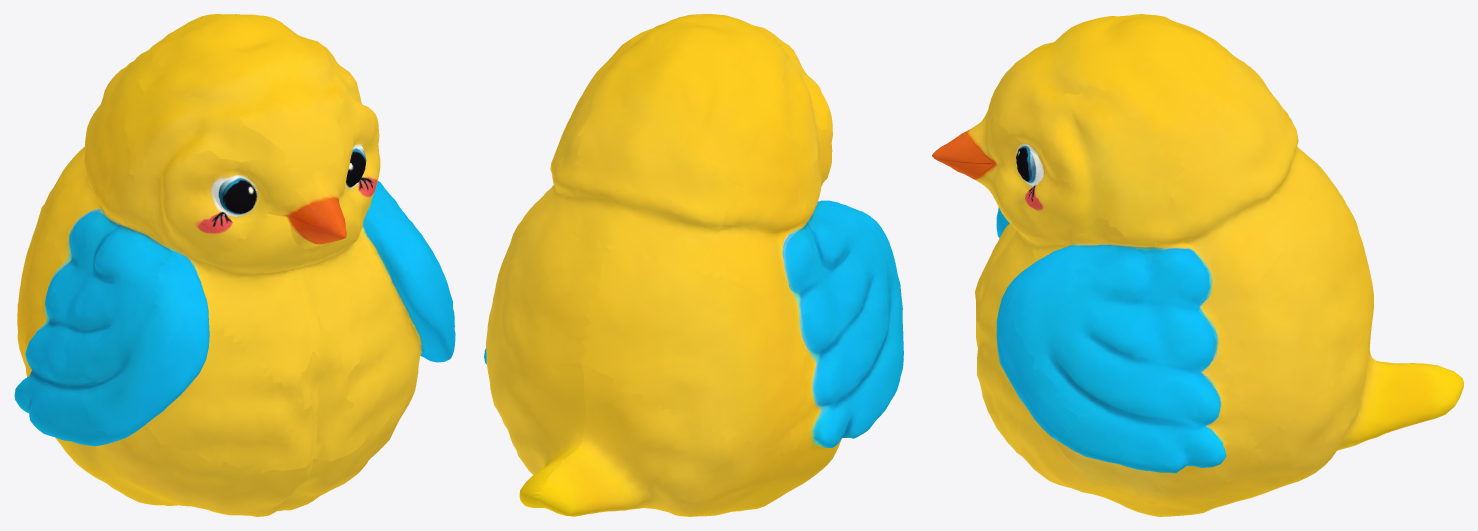
File: bird_meshy_legacy.glb
The picture shows the model from 3 angles, left to right: view 1: azimuth 30°, elevation 25°; view 2: azimuth 150°, elevation 25°; view 3: azimuth 270°, elevation 25°; orthographic projection. The views are drawn at different scales.
Size of the model in its own units: 1.53 by 1.79 by 1.9.
1 material, 1 textured.
